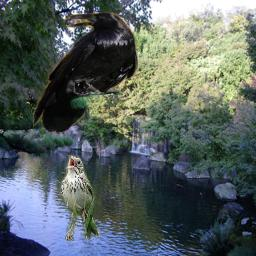Crow: (33, 12, 138, 134)
Sparrow: (60, 155, 100, 241)
